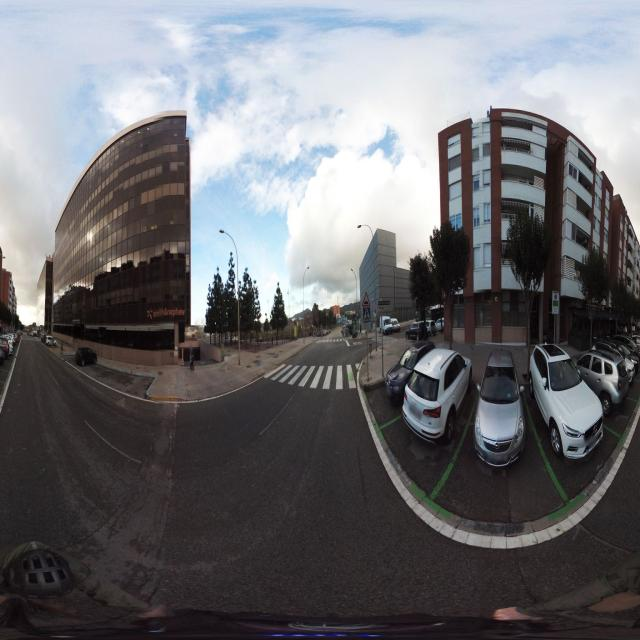forb_stopping: (554, 294, 557, 300), (373, 307, 376, 313)
